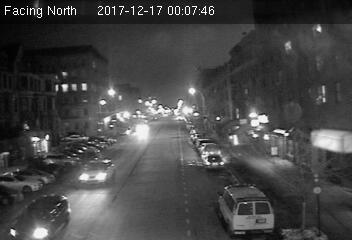car: (2, 192, 75, 239), (78, 159, 117, 187), (201, 155, 227, 172)
police: (218, 180, 276, 234)
